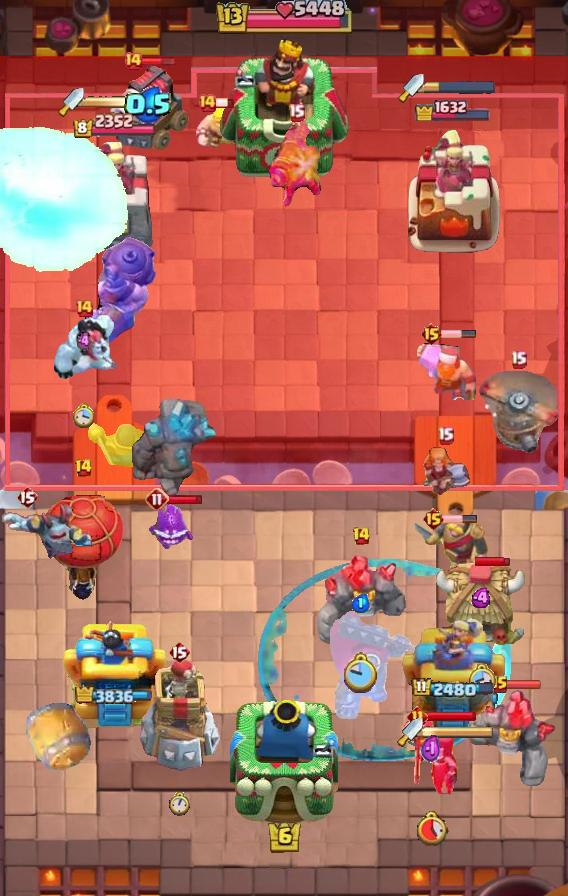archer: (193, 105, 249, 149)
bar: (403, 124, 503, 256), (402, 615, 507, 731), (73, 140, 155, 256)
cannon-cart: (40, 482, 126, 600)
cannoneer-tower: (466, 689, 560, 789), (313, 551, 409, 647), (128, 398, 218, 500)
clock: (213, 0, 355, 38)
dark-prince: (471, 371, 565, 453)
dirt: (22, 697, 92, 773)
electro-spirit: (123, 86, 172, 124), (421, 735, 441, 766), (471, 588, 493, 608), (352, 595, 370, 613), (77, 331, 91, 352)
elixir: (344, 651, 380, 693), (414, 810, 449, 846), (468, 664, 496, 696), (72, 402, 95, 428), (169, 792, 190, 816)
elixir-golem-small: (0, 502, 96, 572)
emote: (425, 710, 477, 722), (475, 556, 511, 568), (168, 495, 205, 506), (140, 56, 176, 67), (506, 679, 542, 690), (441, 329, 477, 339), (442, 514, 478, 524), (215, 97, 235, 109)
firecracker: (413, 515, 489, 574), (83, 421, 169, 473)
golem: (106, 63, 190, 153)
hog-rider: (419, 446, 471, 500)
inferno-tower: (328, 606, 440, 720)
king-tower: (218, 37, 350, 181), (230, 698, 338, 826)
king-tower-bar: (424, 80, 496, 94), (84, 95, 156, 109), (423, 725, 495, 739)
mega-knight: (0, 126, 132, 276)
mega-minion: (268, 118, 324, 210)
mighty-miner: (413, 336, 479, 400)
pad_0: (257, 559, 511, 765)
prince: (435, 561, 529, 651)
queen-tower: (60, 617, 168, 731)
rage: (50, 312, 118, 382)
rascal-boy: (401, 716, 461, 800)
selected: (71, 112, 156, 140), (411, 676, 495, 700), (414, 97, 492, 121), (75, 688, 153, 705)
spear-goblin: (146, 502, 194, 554)
text: (145, 487, 169, 511), (420, 322, 443, 346), (423, 507, 446, 531), (16, 485, 38, 509), (168, 640, 190, 664), (407, 705, 428, 727), (123, 51, 143, 71), (197, 93, 217, 113), (74, 298, 94, 318), (352, 526, 372, 546), (74, 458, 93, 478), (491, 675, 509, 695), (509, 351, 527, 370), (288, 103, 305, 121), (437, 427, 454, 445)
wizard: (77, 235, 159, 349)
zappy: (137, 657, 222, 773)
